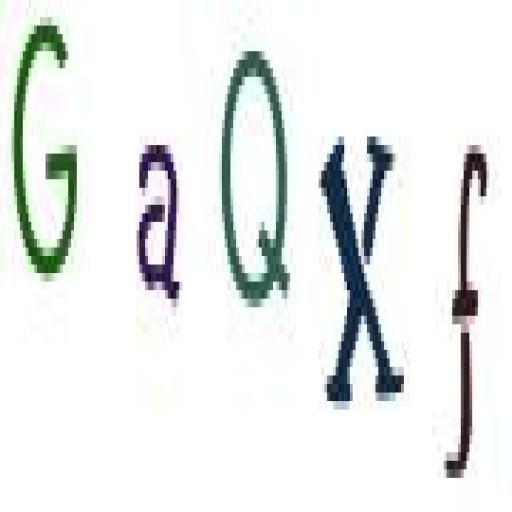G: (2, 7, 86, 293)
Q: (214, 34, 300, 336)
X: (313, 120, 413, 439)
a: (133, 120, 188, 333)
f: (436, 133, 494, 491)
